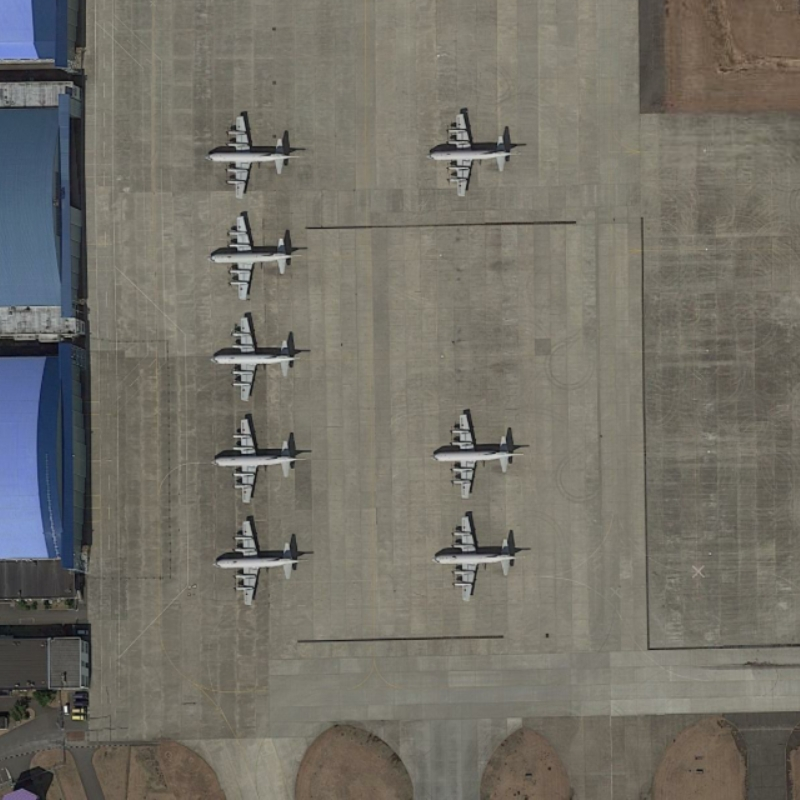A9: (422, 400, 526, 502), (420, 100, 522, 203), (207, 406, 312, 505), (201, 210, 309, 305), (204, 514, 307, 612), (429, 504, 520, 612), (203, 105, 301, 205), (205, 307, 300, 403)
